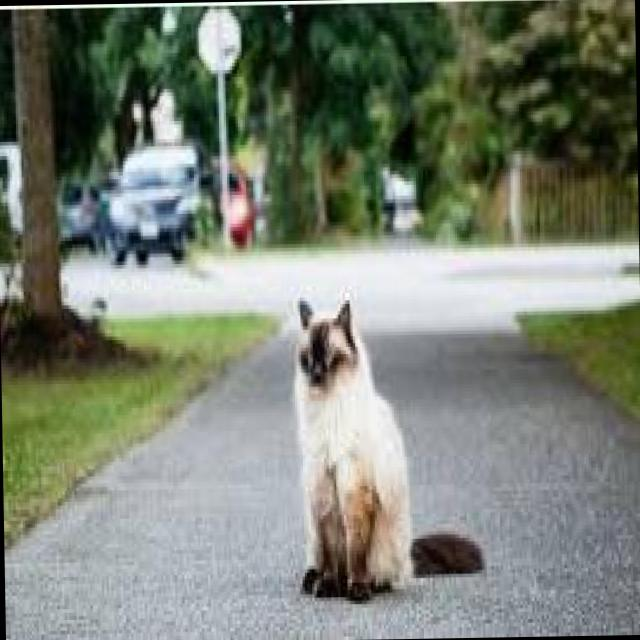Gato: (287, 284, 489, 604)
